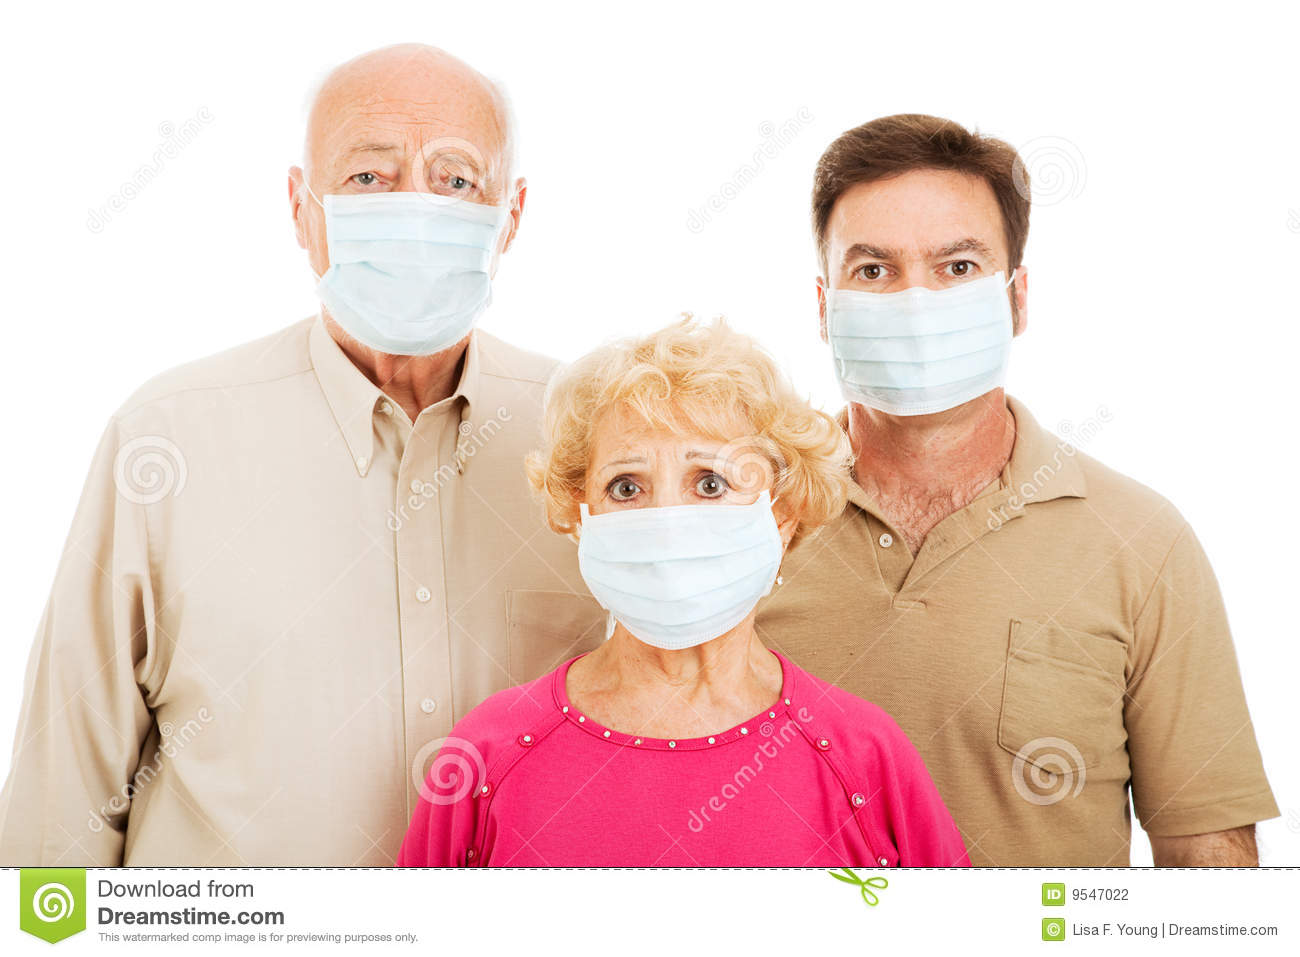mask: (316, 191, 504, 363), (576, 505, 782, 650), (826, 277, 1011, 418)
